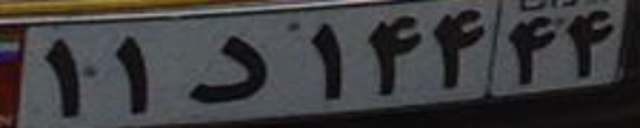1: (35, 35, 83, 117), (307, 21, 343, 100), (115, 34, 148, 113)
4: (368, 15, 422, 96), (431, 10, 486, 89), (565, 9, 617, 77), (508, 15, 553, 84)
dal: (184, 34, 269, 103)
